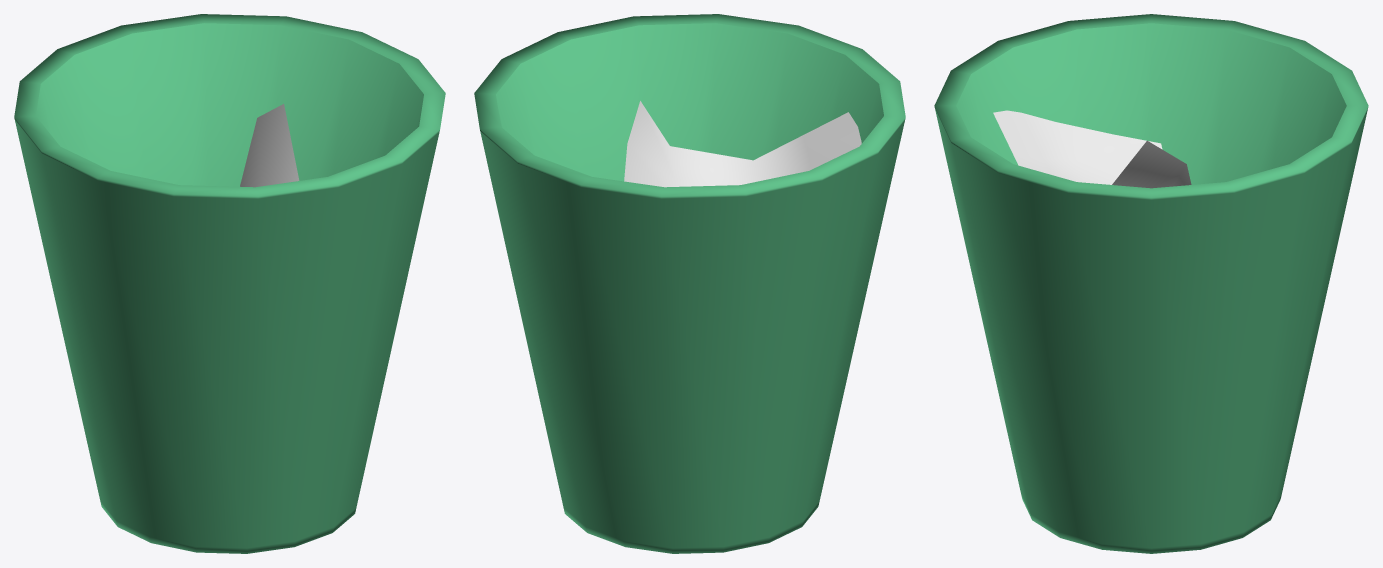
Rendered from Papelera Pieza Carlitos.fbx.
The picture shows the model from 3 angles, left to right: view 1: azimuth 30°, elevation 25°; view 2: azimuth 150°, elevation 25°; view 3: azimuth 270°, elevation 25°; orthographic projection.
Visible parts, largest first — view 1: Papelera pieza chico; view 2: Papelera pieza chico; view 3: Papelera pieza chico.
Boxes of the visible parts, x1,y1,x2,y2 form: Papelera pieza chico: [14, 14, 445, 553]; Papelera pieza chico: [474, 14, 905, 553]; Papelera pieza chico: [934, 14, 1368, 553].
Bounding box in the file's own units: 30.8 × 30.8 × 30.8.
